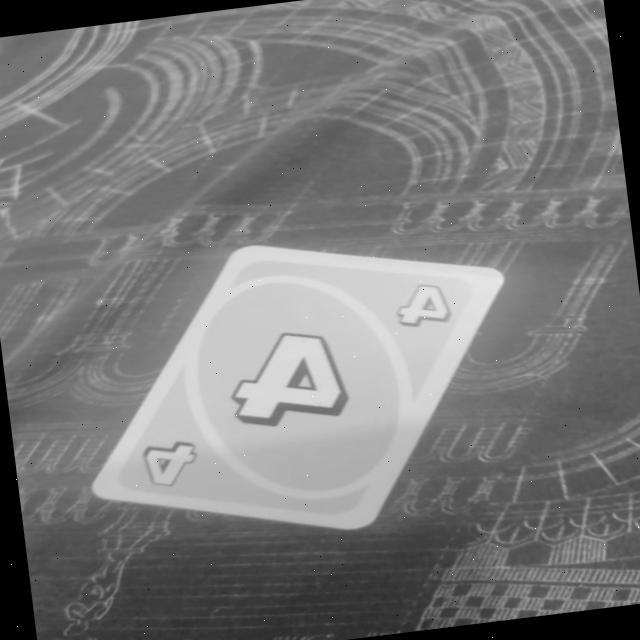card_4: (58, 214, 528, 561)
